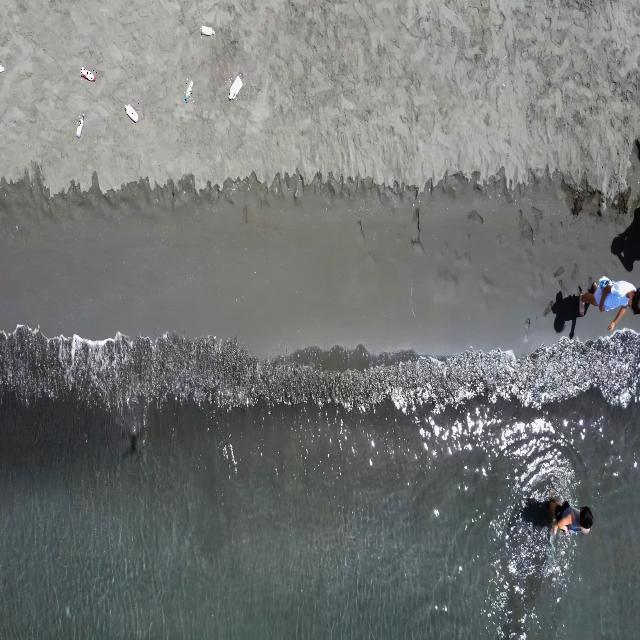Garbage: (228, 75, 241, 99), (124, 103, 138, 121), (75, 112, 83, 136), (183, 80, 192, 101), (81, 67, 95, 80), (200, 24, 212, 35), (0, 64, 4, 71)
